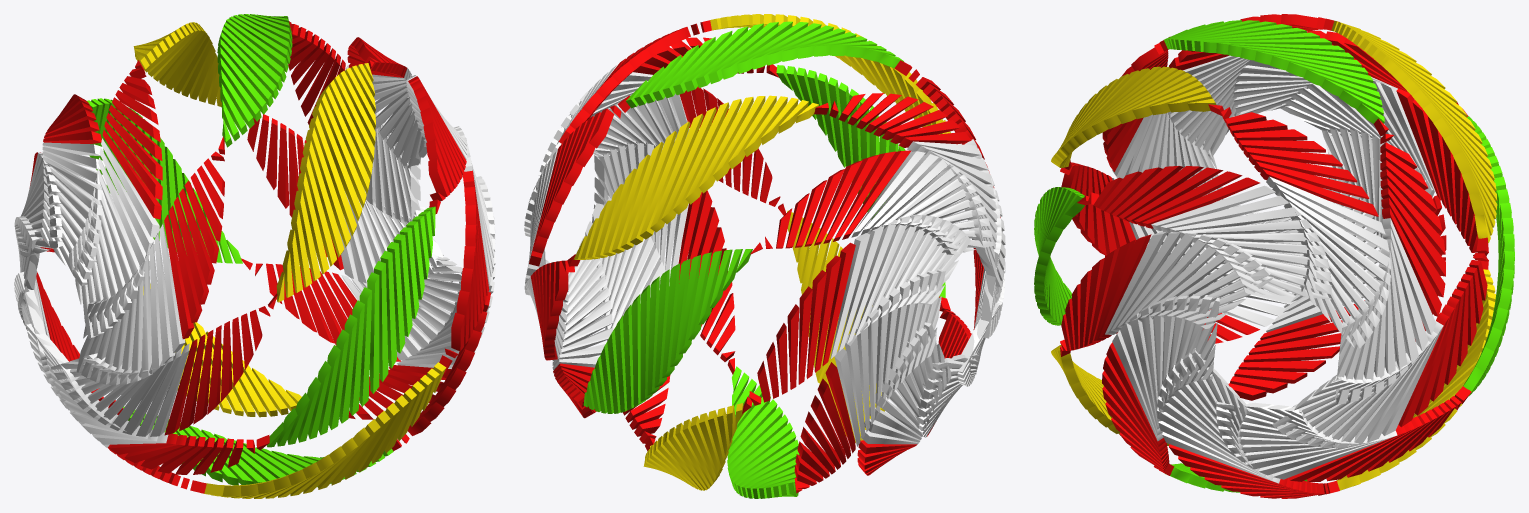
The model's file is SpaceBalls_Glow_8.fbx.
The picture shows the model from 3 angles, left to right: view 1: azimuth 30°, elevation 25°; view 2: azimuth 150°, elevation 25°; view 3: azimuth 270°, elevation 25°; orthographic projection.
Parts seen in each view (by area): view 1: SpaceBalls_Glow_8; view 2: SpaceBalls_Glow_8; view 3: SpaceBalls_Glow_8.
Boxes of the visible parts, x1=… form: SpaceBalls_Glow_8: x1=14, y1=14, x2=495, y2=498; SpaceBalls_Glow_8: x1=524, y1=14, x2=1005, y2=498; SpaceBalls_Glow_8: x1=1034, y1=14, x2=1514, y2=498.
Size of the model in its own units: 150 by 155 by 155.
